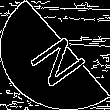N_NE: (19, 23, 91, 87)
